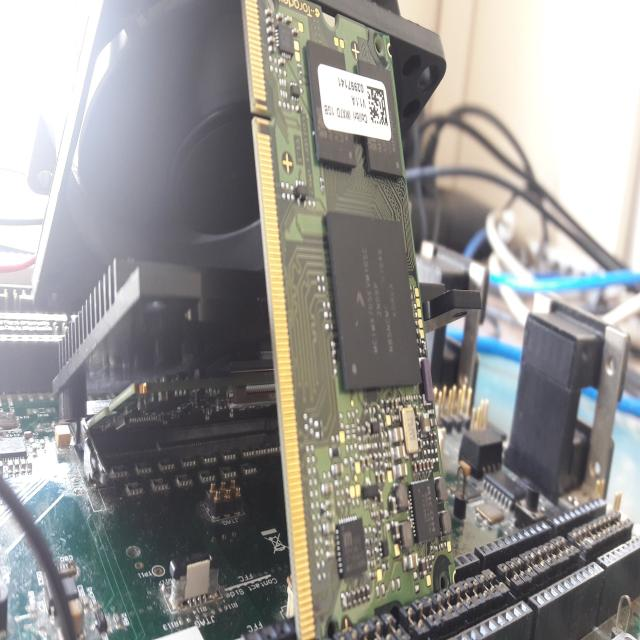som: (231, 1, 466, 640)
